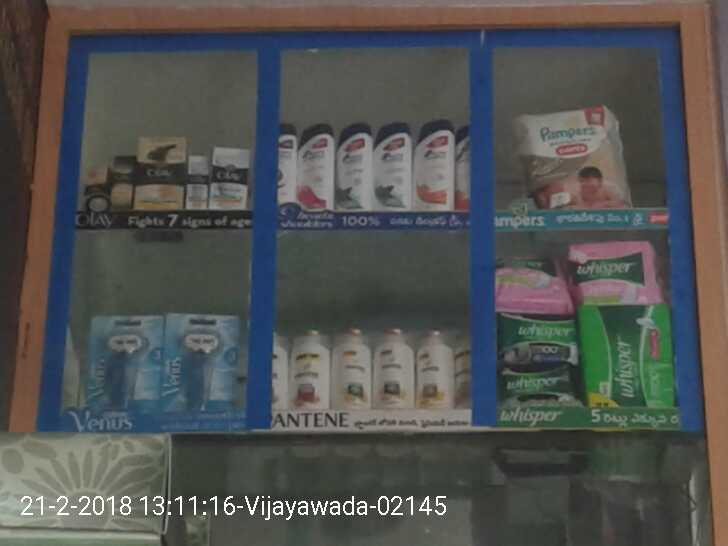venus: (162, 315, 240, 410), (91, 315, 162, 410)
